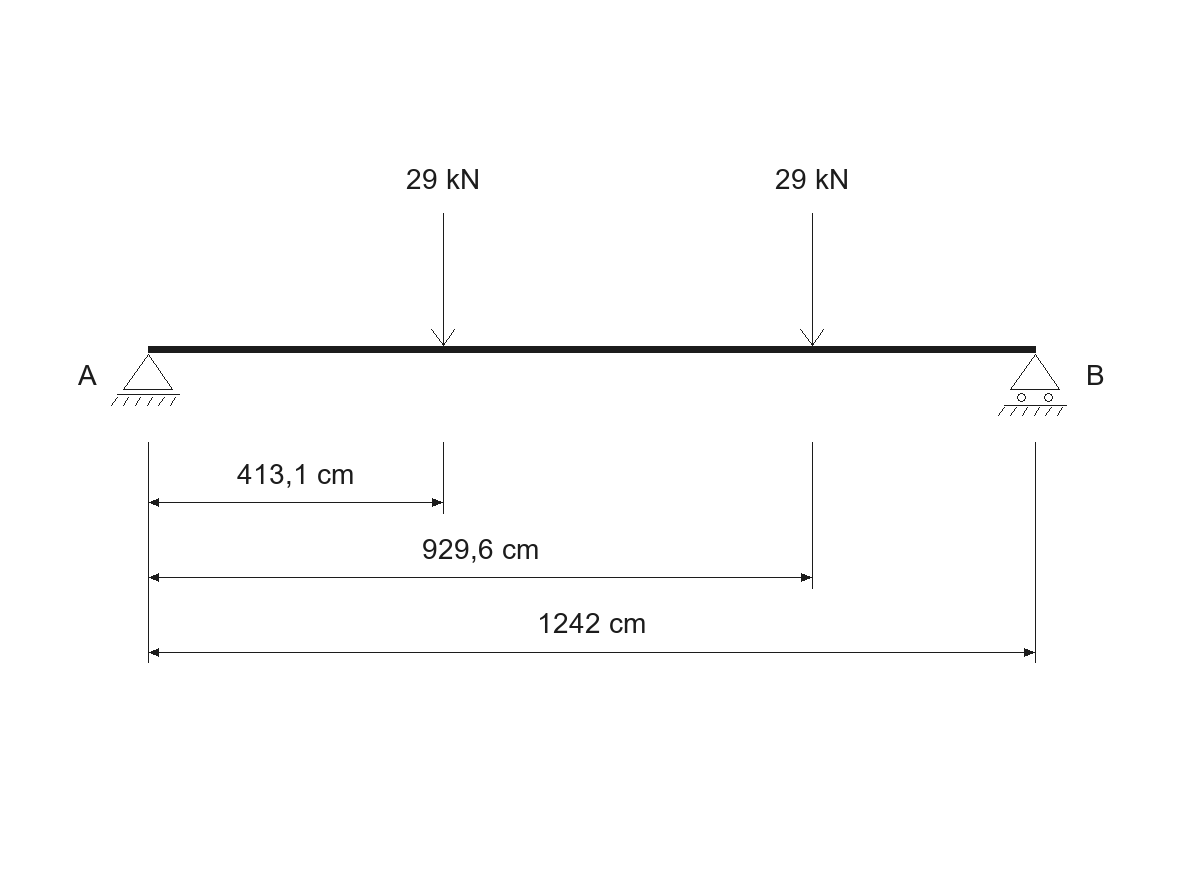pin_support: (111, 354, 180, 406)
point_load: (431, 213, 455, 346), (800, 213, 824, 346)
roller_support: (998, 354, 1067, 416)
